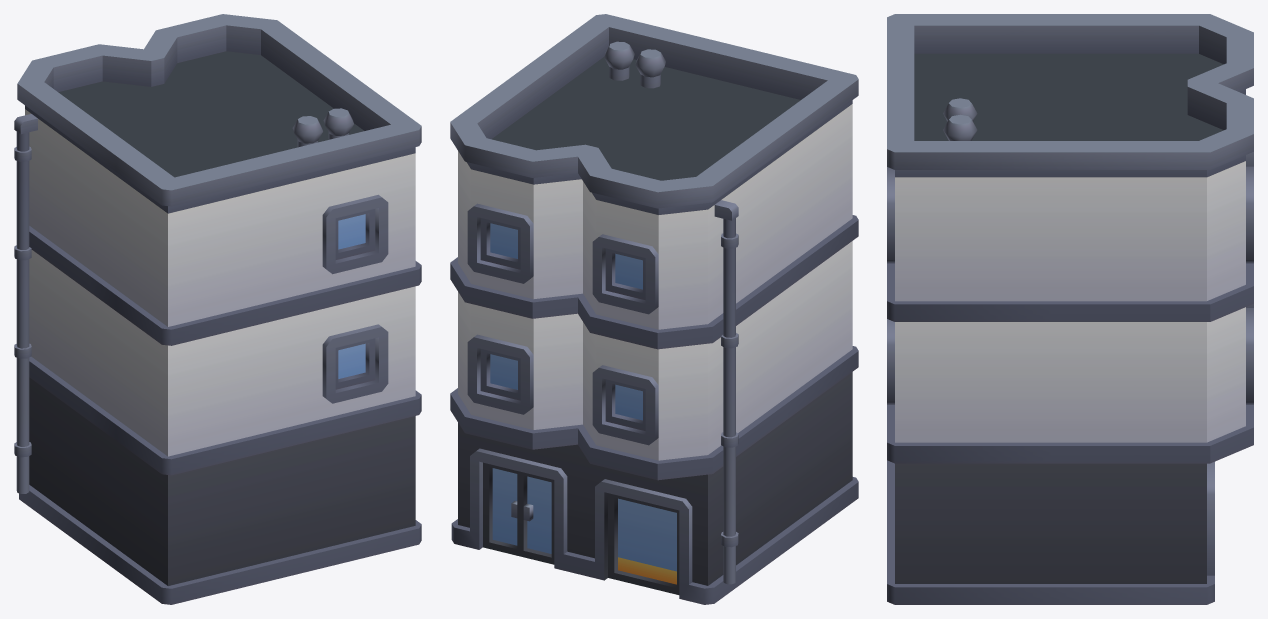
The model's file is building-a.glb.
3 views of the same model, side by side, from view 1: azimuth 30°, elevation 25°; view 2: azimuth 150°, elevation 25°; view 3: azimuth 270°, elevation 25° (orthographic). The views are drawn at different scales.
Parts seen in each view (by area): view 1: building-a; view 2: building-a; view 3: building-a.
Part boxes in pixels (x1,y1,x2,y2): building-a: (14, 14, 421, 604); building-a: (450, 14, 858, 604); building-a: (887, 14, 1253, 604).
Size of the model in its own units: 0.8835 by 1.29 by 0.94.
Materials: 1 (1 with a texture image).
